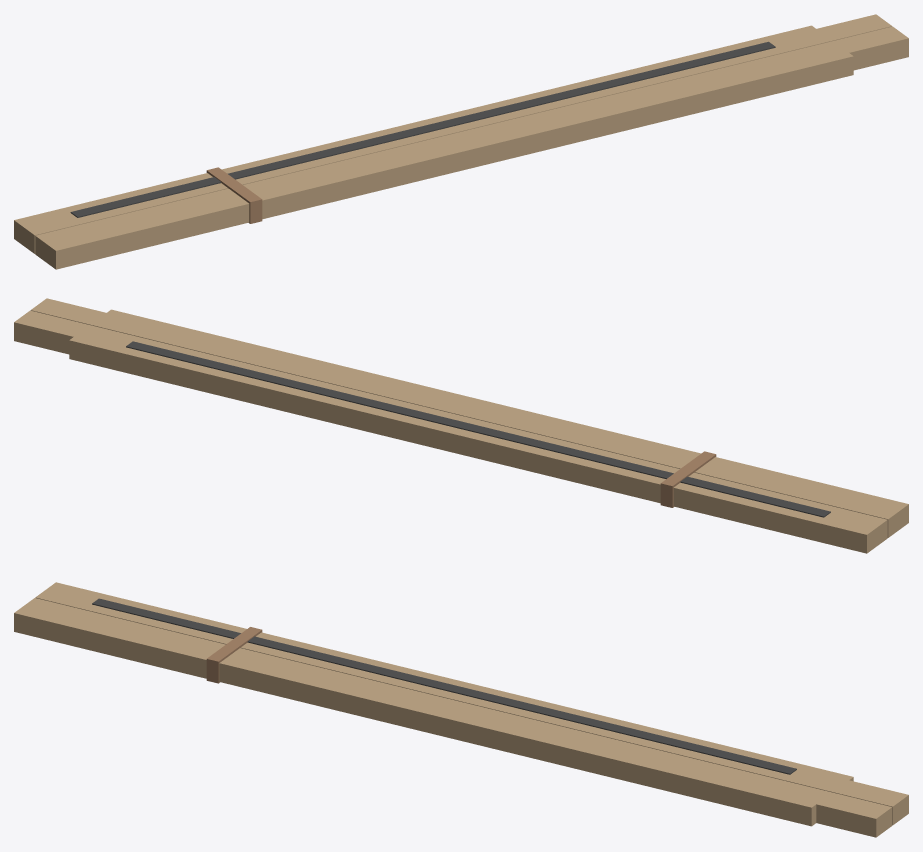
File: prop-wood-core-blank.fbx
3 views of the same model, one above another, from view 1: azimuth 30°, elevation 25°; view 2: azimuth 150°, elevation 25°; view 3: azimuth 330°, elevation 25° (orthographic).
Visible parts, largest first — view 1: prop-wood-core-blank; view 2: prop-wood-core-blank; view 3: prop-wood-core-blank.
Part boxes in pixels (<box>): prop-wood-core-blank: <box>14,14,908,269</box>; prop-wood-core-blank: <box>14,298,908,553</box>; prop-wood-core-blank: <box>14,582,908,837</box>.
Size of the model in its own units: 86 by 2.1 by 7.6.
